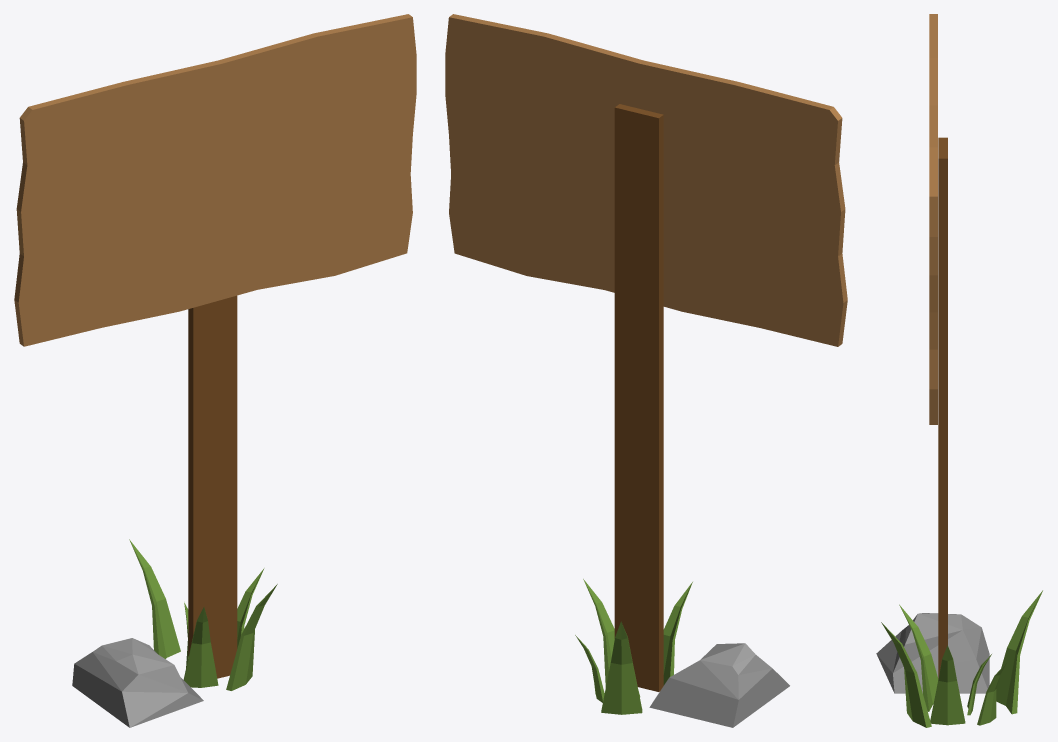
Rendered from Wooden Sign-mxyDWLsKer.glb.
3 renders of one model, left to right at view 1: azimuth 30°, elevation 25°; view 2: azimuth 150°, elevation 25°; view 3: azimuth 270°, elevation 25°, orthographic.
Parts seen in each view (by area): view 1: Wooden Sign-mxyDWLsKer; view 2: Wooden Sign-mxyDWLsKer; view 3: Wooden Sign-mxyDWLsKer.
Part boxes in pixels (x1,y1,x2,y2): Wooden Sign-mxyDWLsKer: [14, 14, 416, 727]; Wooden Sign-mxyDWLsKer: [445, 14, 847, 727]; Wooden Sign-mxyDWLsKer: [876, 14, 1042, 727].
Size of the model in its own units: 1.44 by 2.15 by 0.5324.
